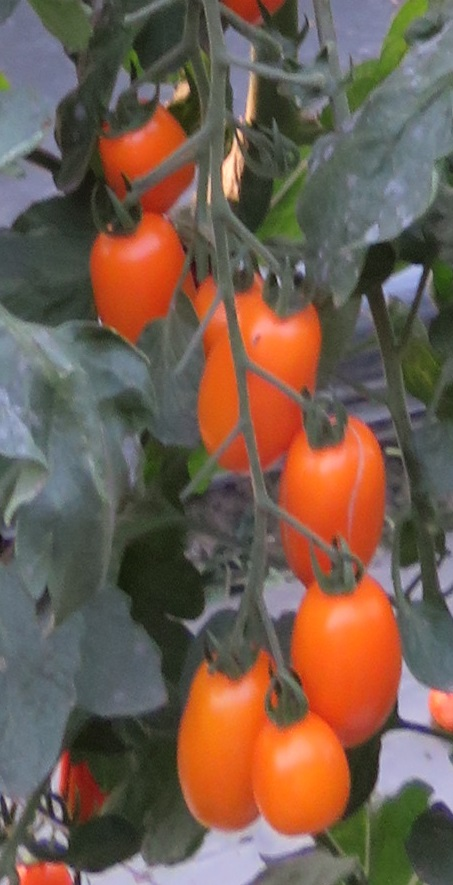orange: (196, 304, 324, 479), (173, 648, 286, 836), (286, 574, 400, 749), (278, 417, 396, 584), (246, 716, 354, 841), (100, 98, 194, 211), (91, 216, 182, 326), (60, 747, 105, 822), (16, 857, 74, 885)
